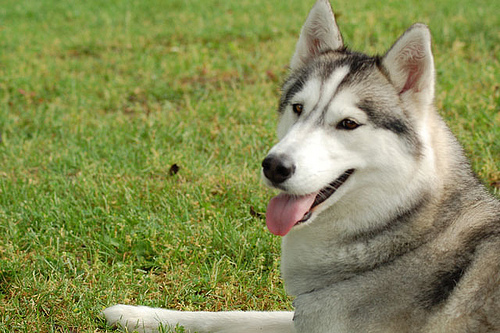dog: (102, 2, 499, 332)
